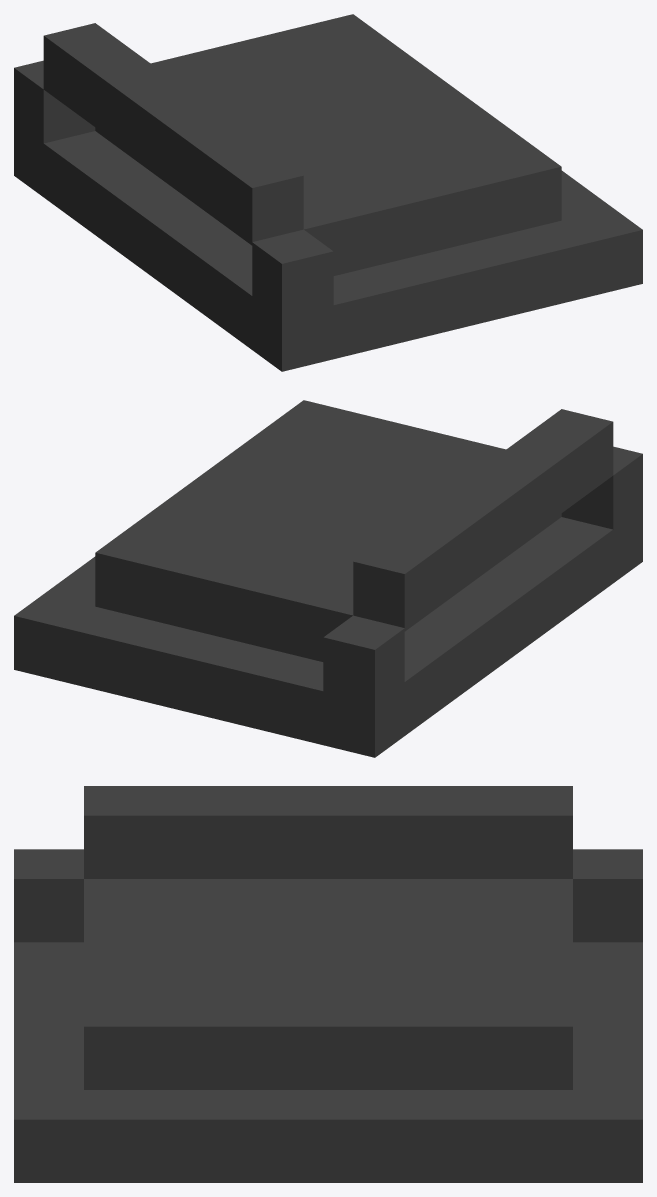
The model's file is waffle machine top.obj.
3 renders of one model, top to bottom at view 1: azimuth 30°, elevation 25°; view 2: azimuth 150°, elevation 25°; view 3: azimuth 270°, elevation 25°, orthographic. The views are drawn at different scales.
Parts seen in each view (by area): view 1: waffle machine top; view 2: waffle machine top; view 3: waffle machine top.
Boxes of the visible parts, x1,y1,x2,y2 form: waffle machine top: (14,14,642,371); waffle machine top: (14,400,642,757); waffle machine top: (14,786,642,1182).
Size of the model in its own units: 7 by 3 by 9.
Materials: 1 (1 with a texture image).
